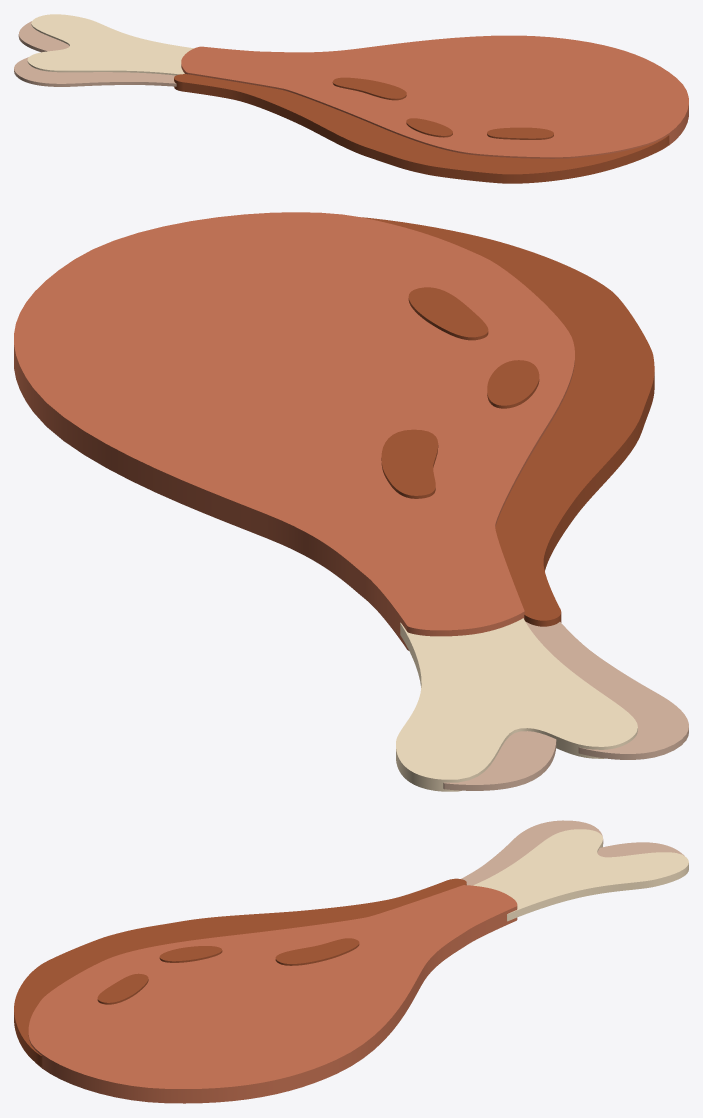
The model's file is emoji_u1f357.glb.
3 renders of one model, top to bottom at view 1: azimuth 30°, elevation 25°; view 2: azimuth 150°, elevation 25°; view 3: azimuth 270°, elevation 25°, orthographic. The views are drawn at different scales.
Visible parts, largest first — view 1: emoji_u1f357; view 2: emoji_u1f357; view 3: emoji_u1f357.
Part boxes in pixels (x1=…): emoji_u1f357: x1=14, y1=14, x2=688, y2=183; emoji_u1f357: x1=14, y1=212, x2=688, y2=791; emoji_u1f357: x1=14, y1=820, x2=688, y2=1103.
Size of the model in its own units: 0.0327 by 0.001 by 0.0341.
